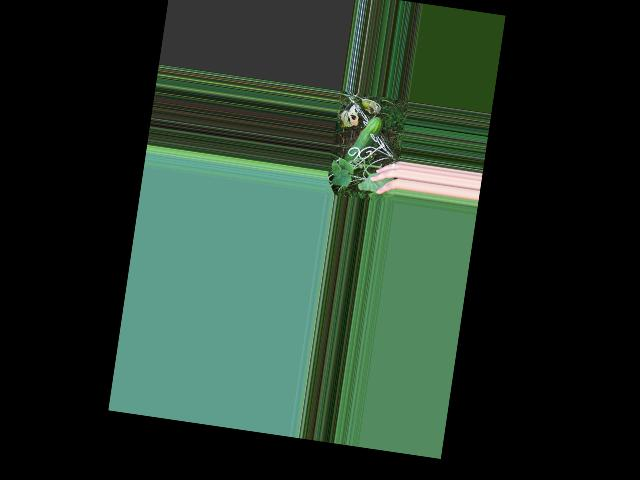cucumber: (344, 113, 384, 166)
